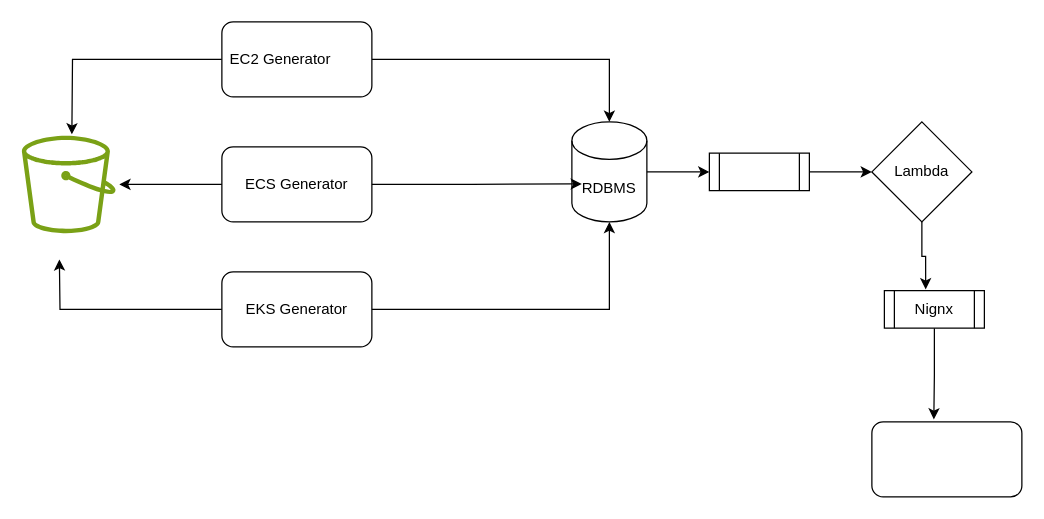
Image size: 1044x519. Some labels were removed from this diagram. Each missing label, with the box of its shape:
Api Gateway: (708, 152, 809, 191)
EC2 /recieve /frontend: (871, 421, 1022, 497)
S3 Bucket: (21, 135, 115, 232)
